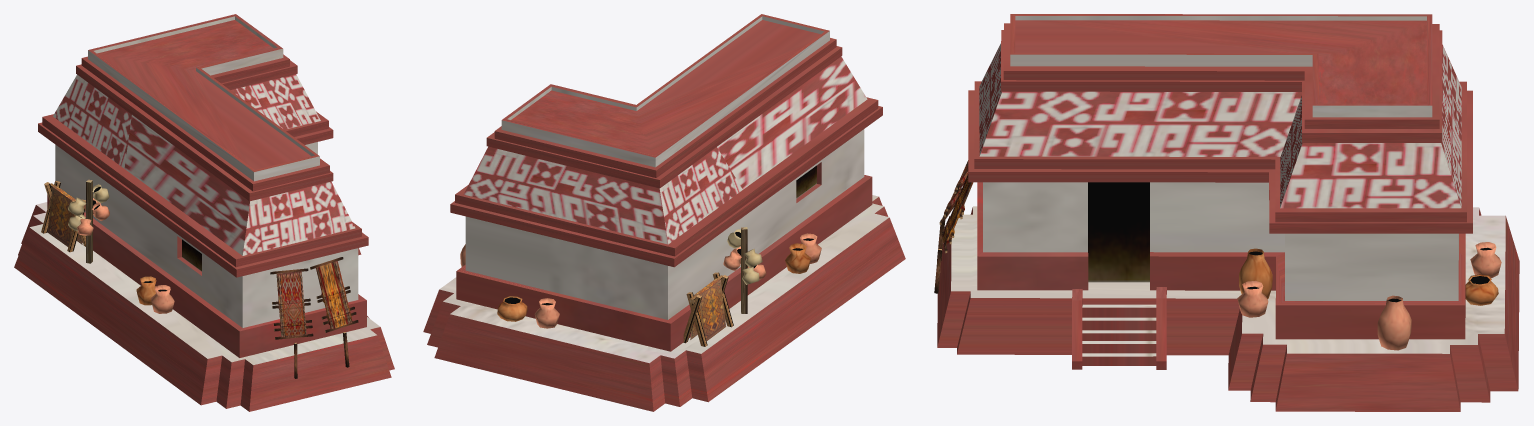
Rendered from house_nobre_1.dae.
3 renders of one model, left to right at view 1: azimuth 30°, elevation 25°; view 2: azimuth 150°, elevation 25°; view 3: azimuth 270°, elevation 25°, orthographic. The views are drawn at different scales.
Visible parts, largest first — view 1: house_nobre_1; view 2: house_nobre_1; view 3: house_nobre_1.
Part boxes in pixels (x1,y1,x2,y2): house_nobre_1: [14, 14, 394, 411]; house_nobre_1: [423, 14, 905, 411]; house_nobre_1: [934, 14, 1519, 411].
Bounding box in the file's own units: 11.34 × 16.48 × 8.3.
